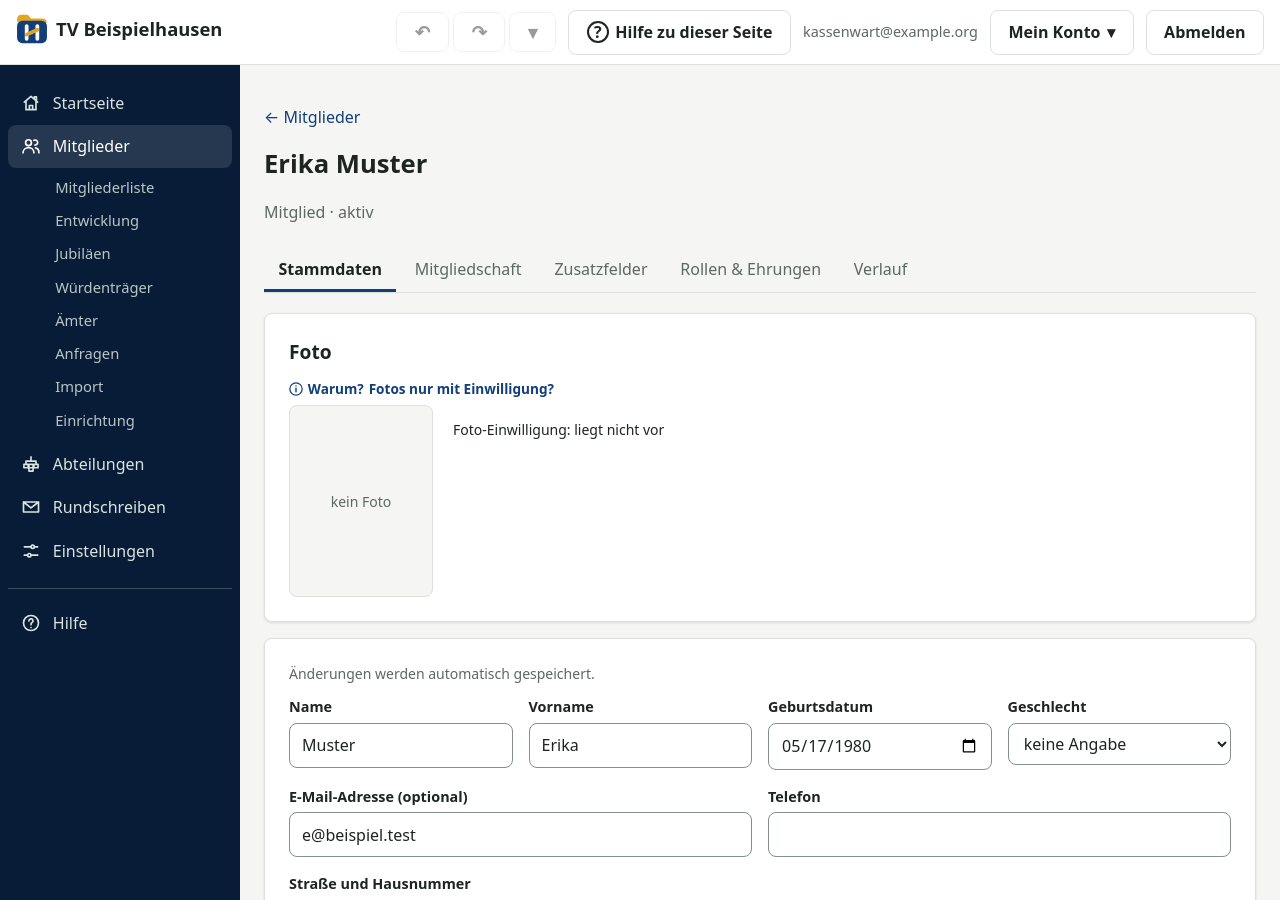
Rückgängig und Wiederherstellen › nimmt mehrere Schritte auf einmal zurück
Type "1" into the field labelled "Telefon".
click(1000, 835); type("1")  # box [768,812,1231,857]
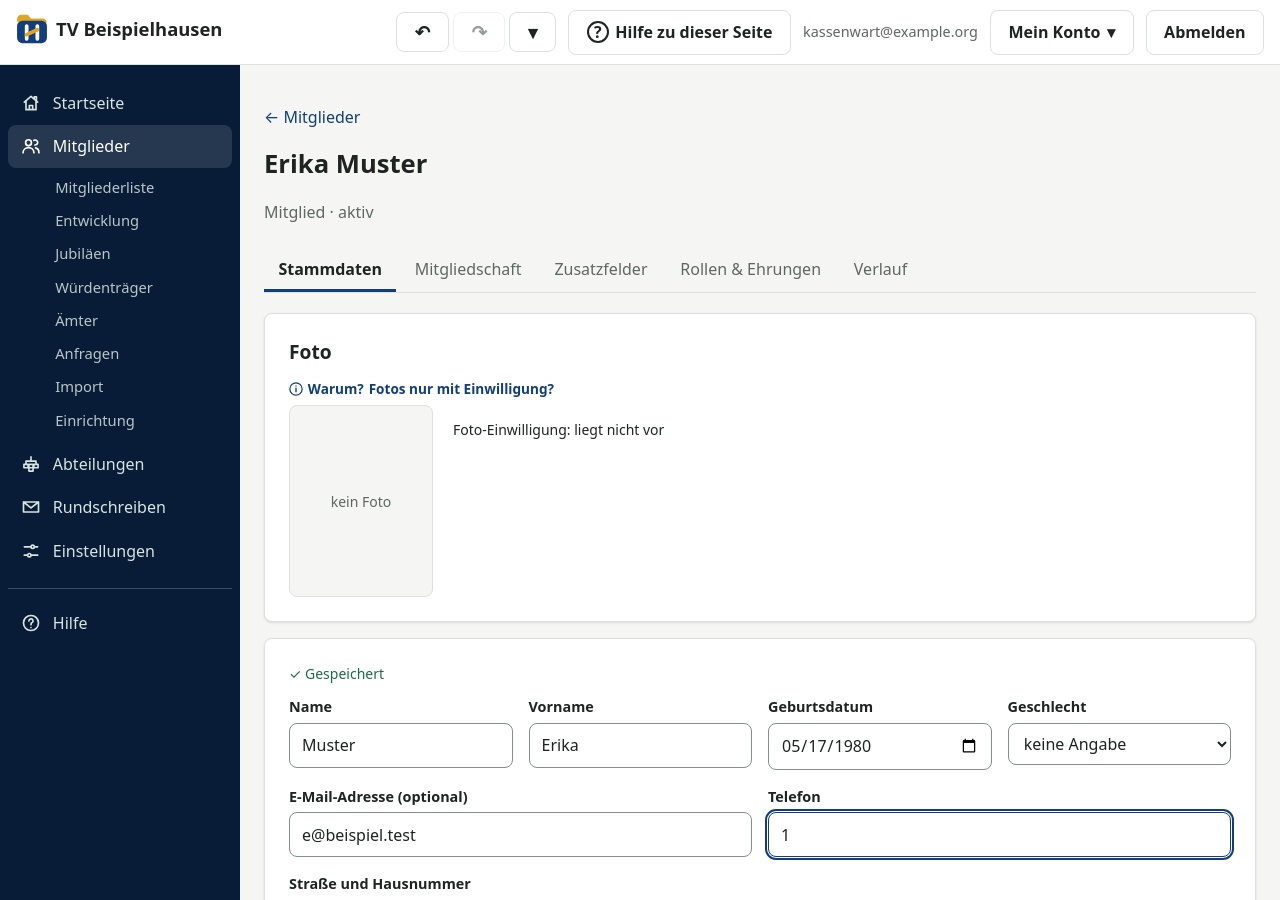
Expected: the text "✓ Gespeichert" is shown, [289,664,384,683]
Type "2" into the field labelled "Telefon".
click(1000, 835); type("2")  # box [768,812,1231,857]
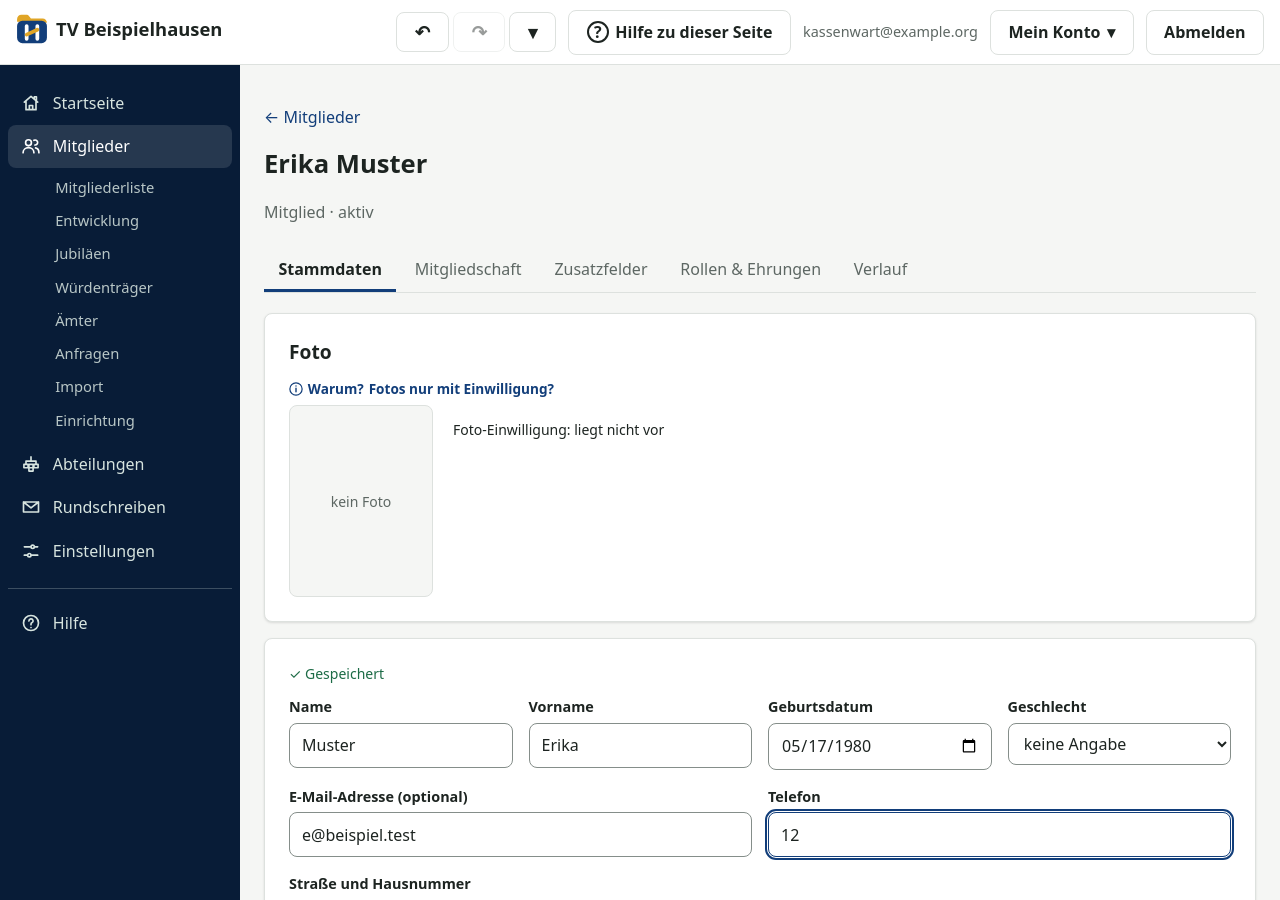
Expected: the text "✓ Gespeichert" is shown, [289,664,384,683]
Type "3" into the field labelled "Telefon".
click(1000, 835); type("3")  # box [768,812,1231,857]
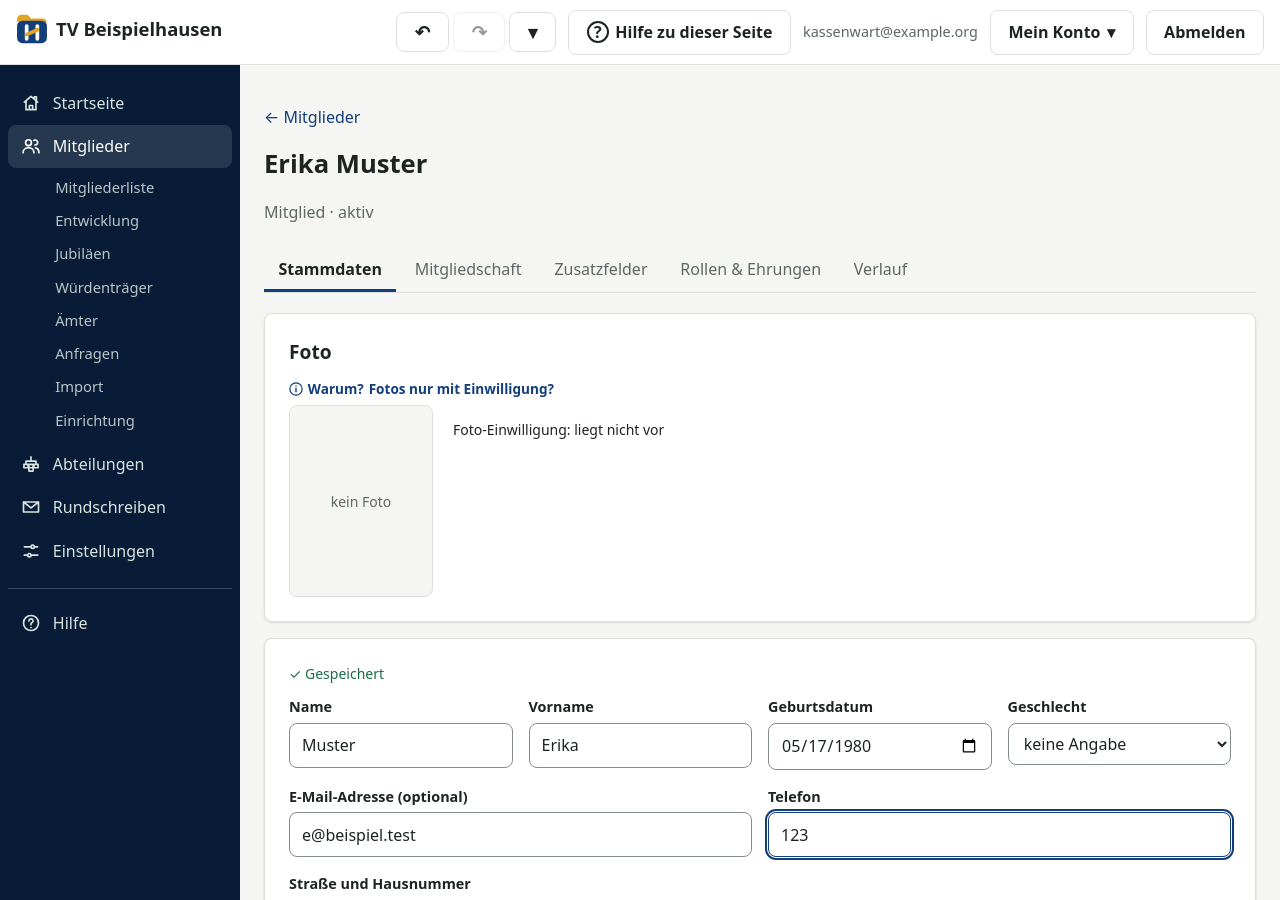
Expected: the text "✓ Gespeichert" is shown, [289,664,384,683]
Click the button named "Letzte Schritte".
click(533, 32)  # box [510,12,556,52]
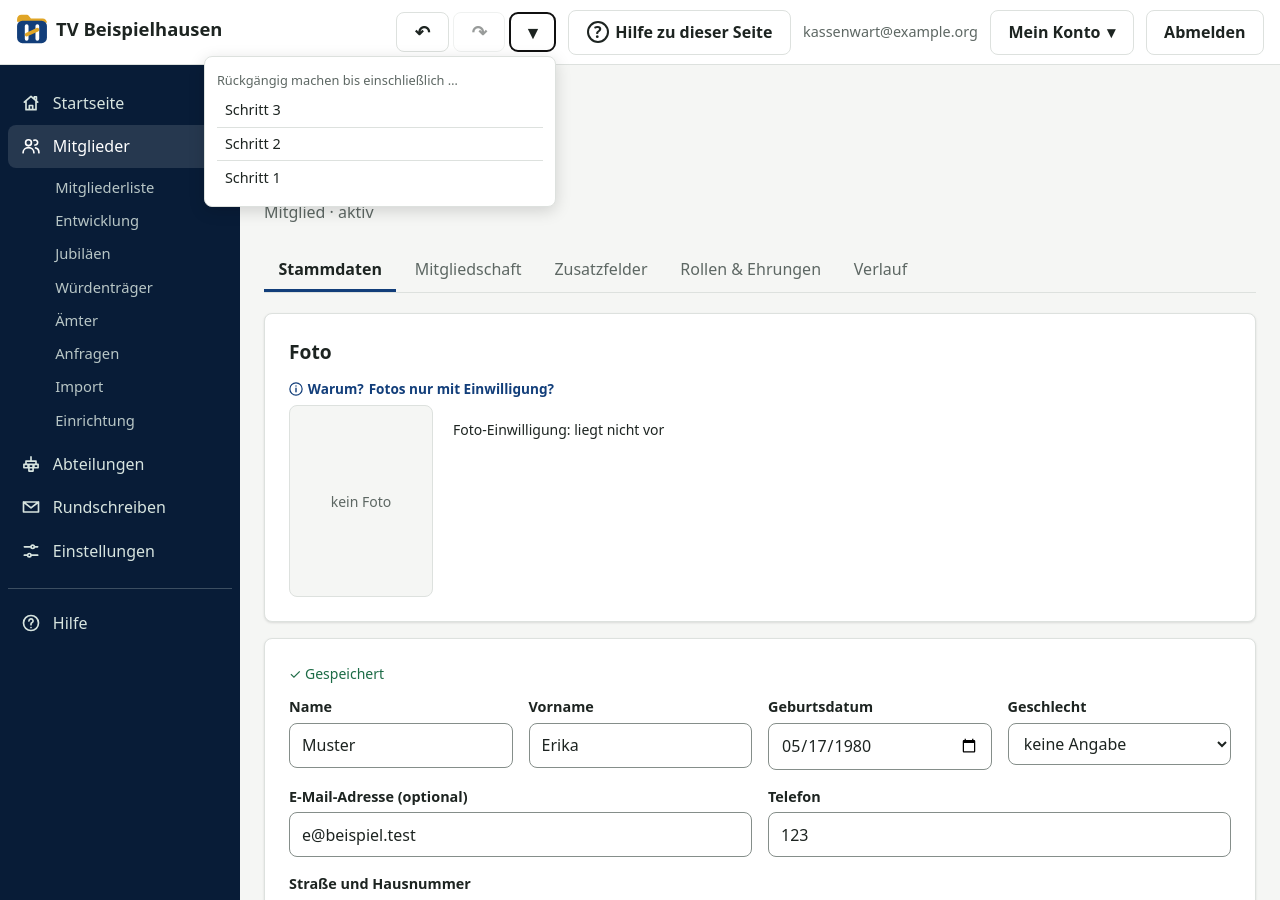
Click the button "Schritt 2".
click(253, 144)  # box [217,128,543,160]
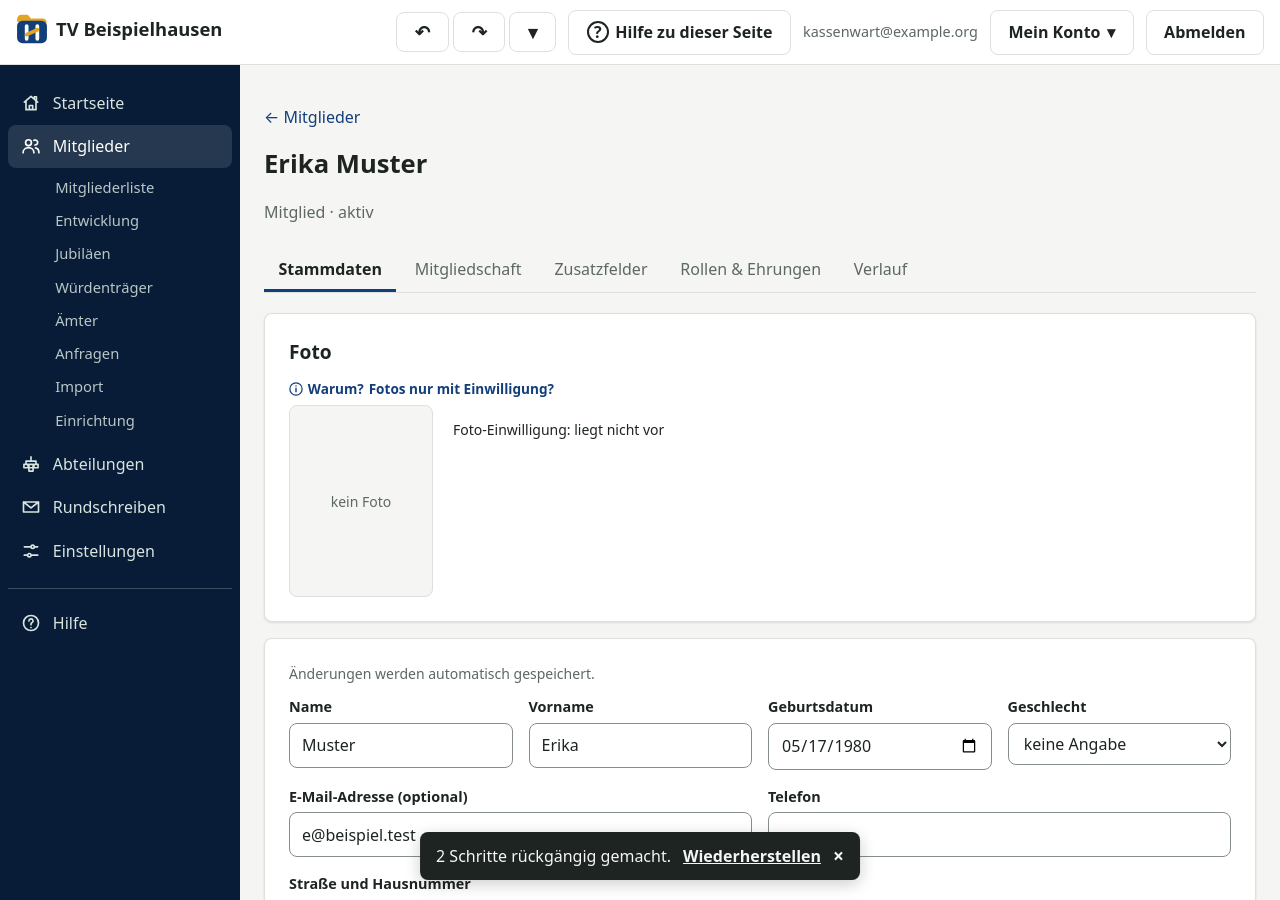
Expected: the text "2 Schritte rückgängig gemacht." is shown, [436,844,671,868]
Click the button named "Letzte Schritte".
click(533, 32)  # box [510,12,556,52]
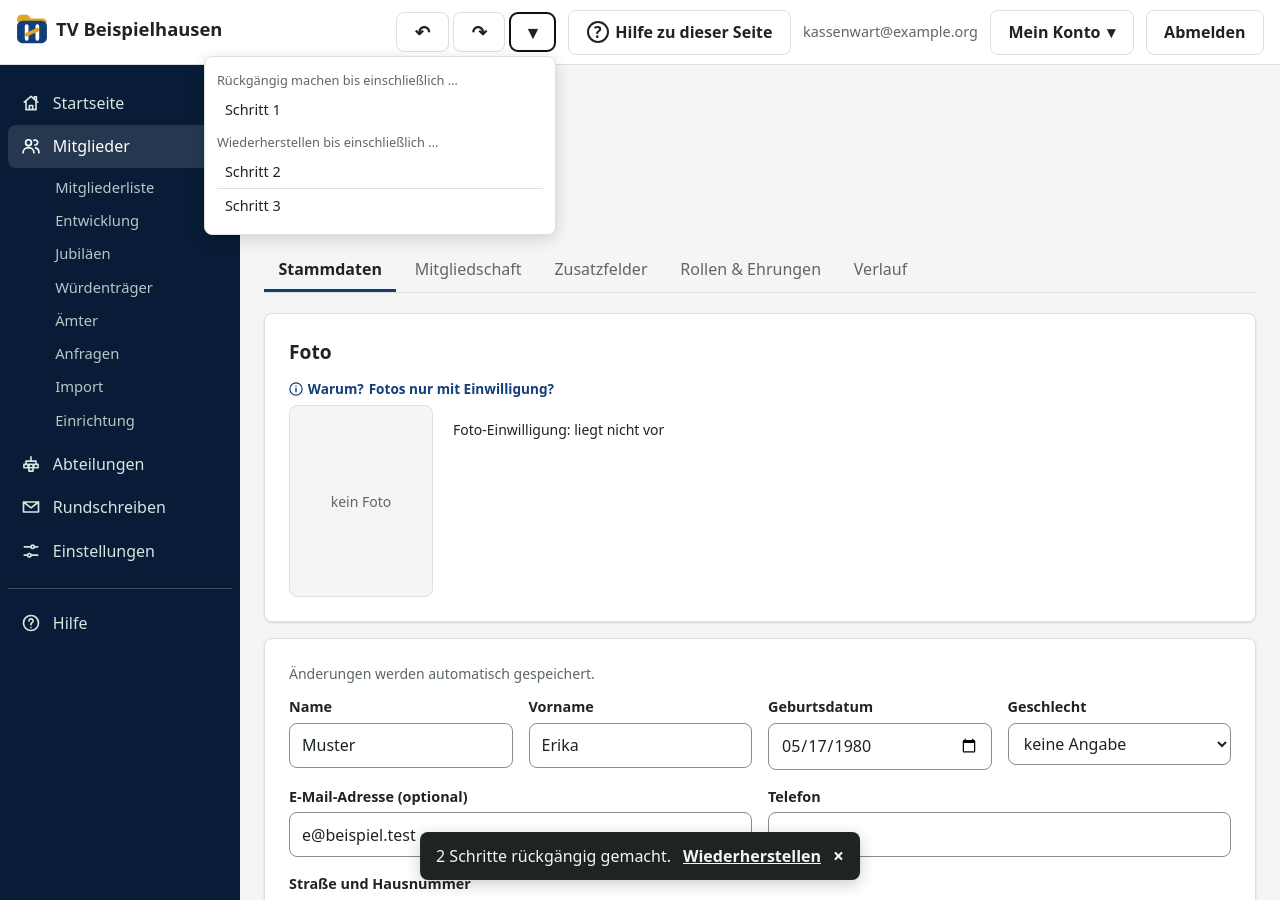
Expected: the text "Wiederherstellen bis einschließlich …" is shown, [217,133,438,151]
Expected: the button "Schritt 2" is shown, [217,155,543,188]
